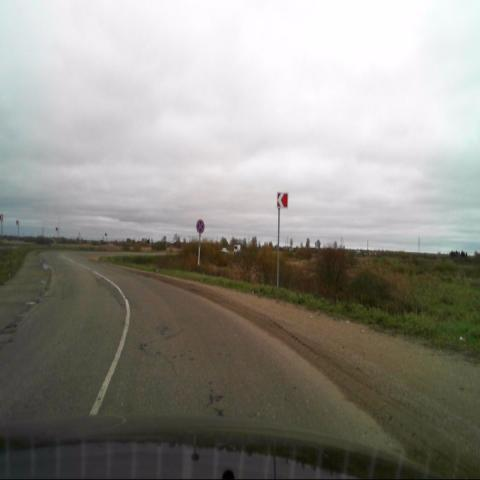3_27: (196, 219, 205, 234)
